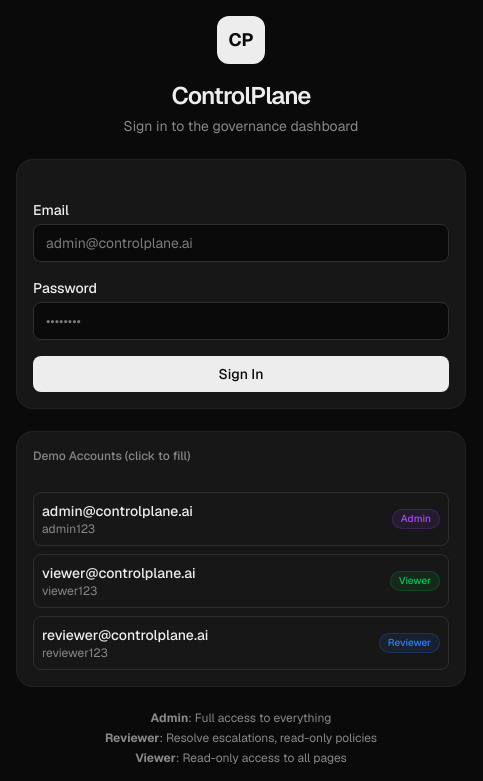
Scenario: Login Flow Integration › fills email/password when clicking a demo account button
Step 1. Click the text "admin@controlplane.ai" → point(117, 511), box [42,501,193,521]
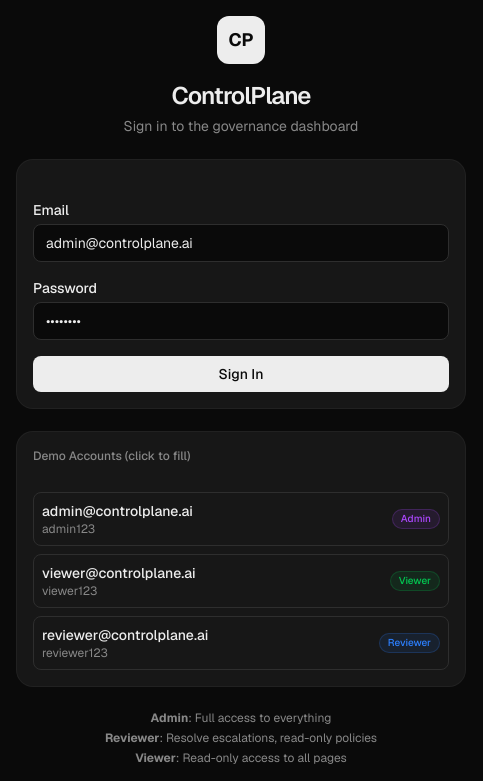
Expected: the field with placeholder "admin@controlplane.ai" holds "admin@controlplane.ai", [33,224,449,262]
